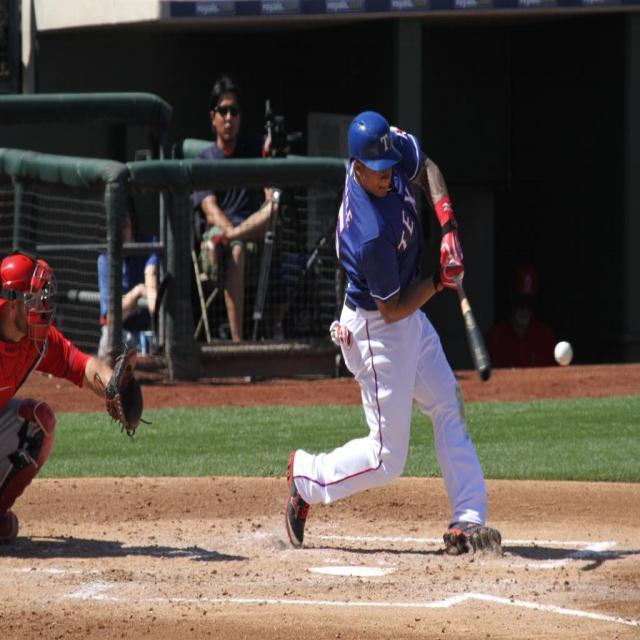ball: (554, 340, 574, 368)
bat: (454, 278, 494, 382)
